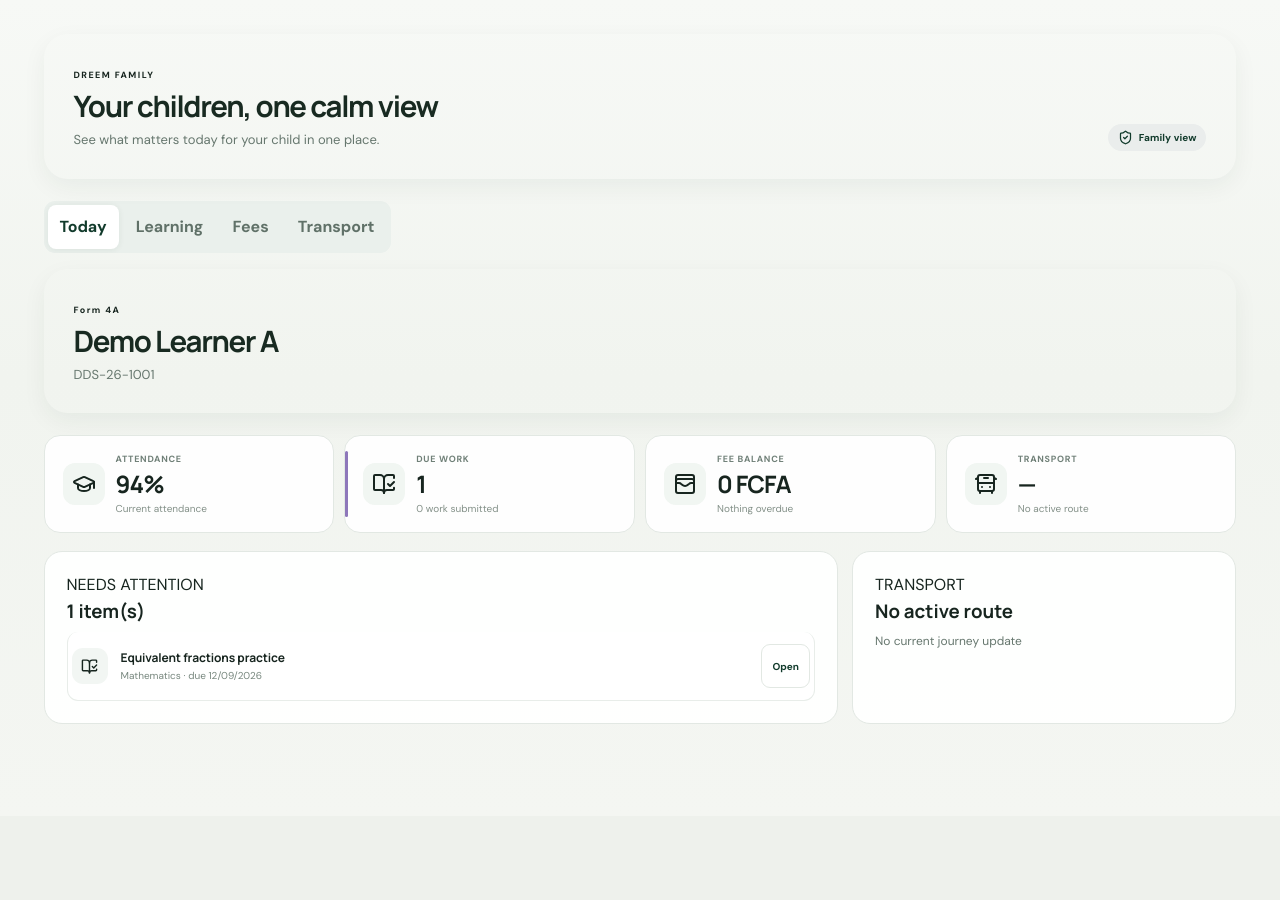
Family app › does not let Family impersonate the learner to submit schoolwork
This screenshot has width=1280, height=900.
Click the button "Learning": point(170, 226) [124, 204, 215, 248]
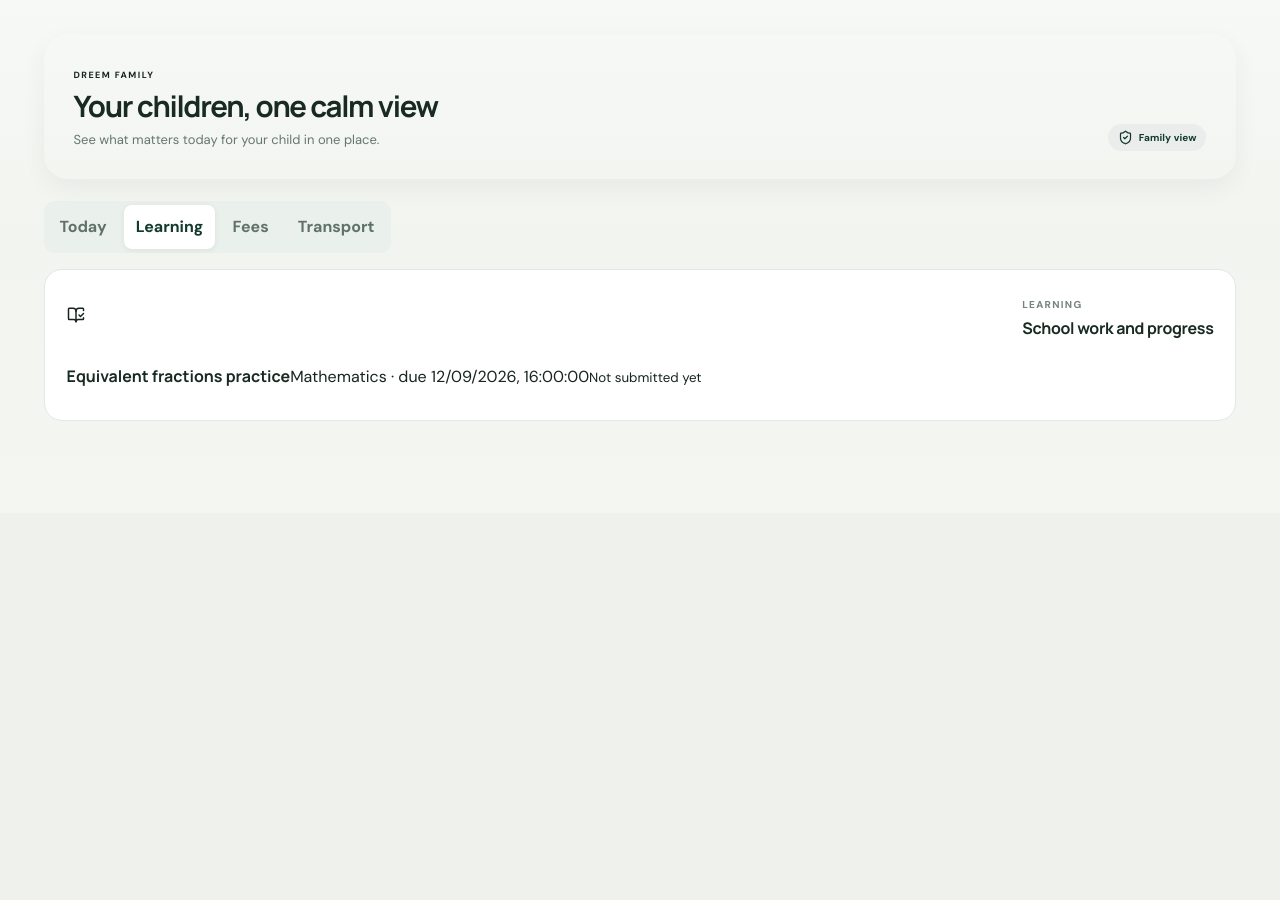
expect the heading "School work and progress" is shown: met, box [1022, 316, 1214, 338]
